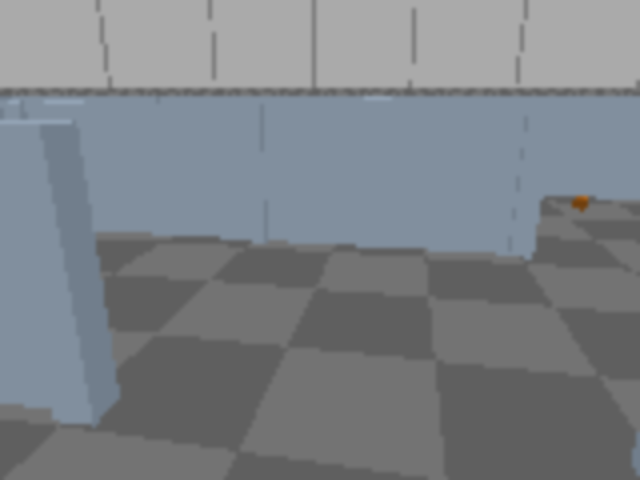puck: (571, 194, 592, 212)
